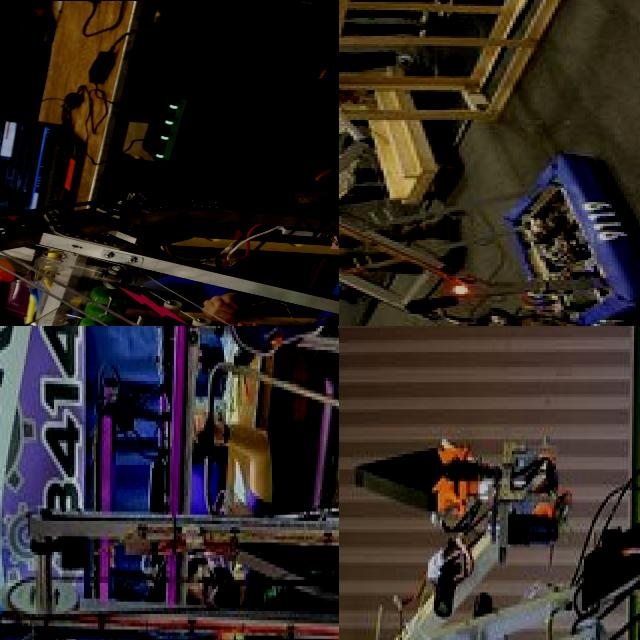FRC-Robots: (6, 350, 339, 640), (339, 326, 640, 640), (0, 143, 339, 326), (339, 148, 640, 326)
